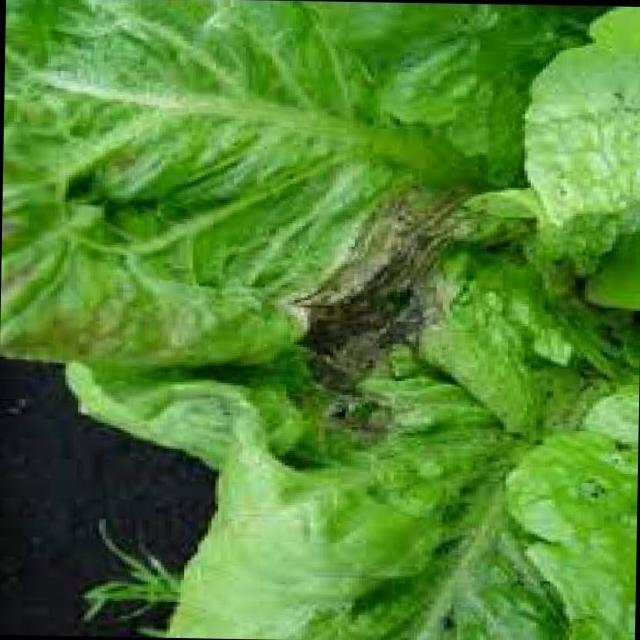Downy_mildew_on_lettuce: (18, 21, 357, 218), (492, 54, 636, 232)
